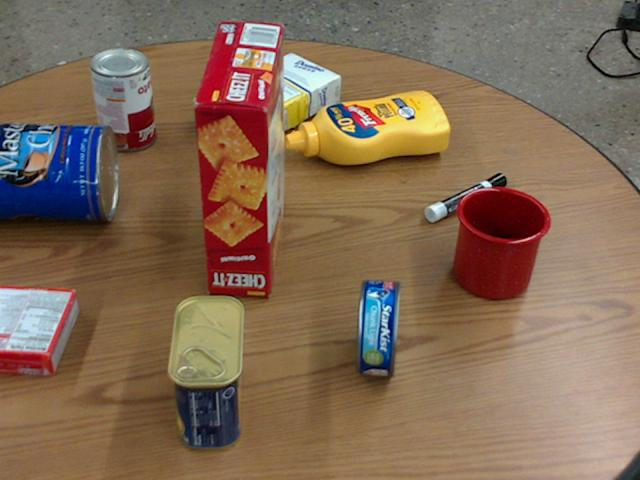cracker_box: (192, 22, 283, 296)
gelatin_box: (0, 285, 79, 375)
large_marker: (425, 173, 506, 221)
master_chef_can: (0, 123, 115, 221)
mug: (453, 185, 551, 298)
mustard_bottle: (284, 92, 450, 163)
potted_meat_can: (169, 296, 244, 451)
sugar_box: (194, 51, 341, 153)
tomato_soup_can: (89, 48, 154, 151)
tuna_fish_can: (356, 279, 400, 377)
